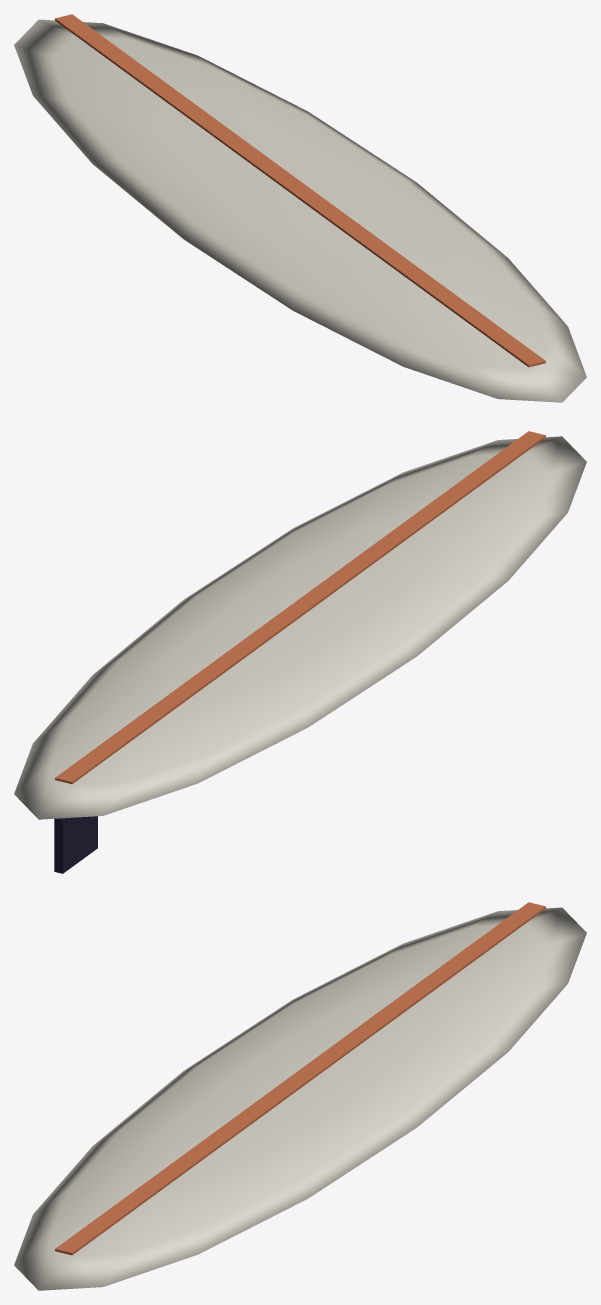
File: surfboard.glb
3 views of the same model, one above another, from view 1: azimuth 30°, elevation 25°; view 2: azimuth 150°, elevation 25°; view 3: azimuth 330°, elevation 25° (orthographic).
Visible parts, largest first — view 1: surfboard; view 2: surfboard; view 3: surfboard.
Boxes of the visible parts, x1=… form: surfboard: x1=14, y1=14, x2=586, y2=402; surfboard: x1=14, y1=431, x2=586, y2=873; surfboard: x1=14, y1=902, x2=586, y2=1290.
Bounding box in the file's own units: 0.5399 × 0.1974 × 2.1.
